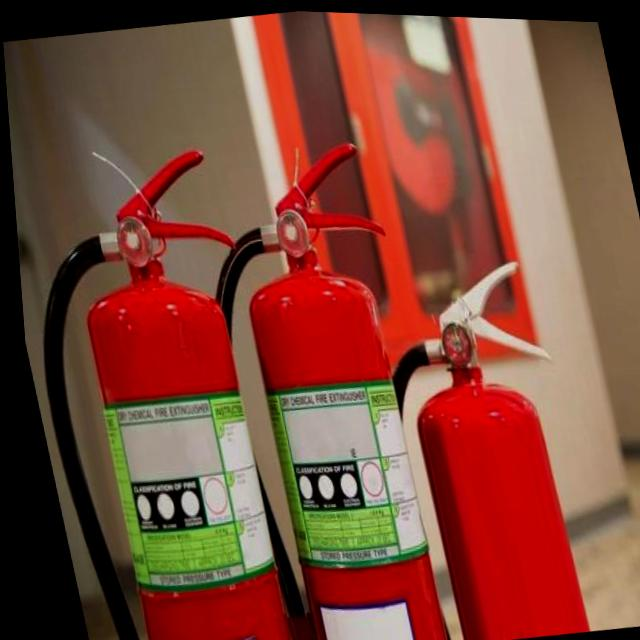FireExtinguisher: (8, 133, 312, 640), (162, 130, 464, 640), (322, 241, 607, 640)
